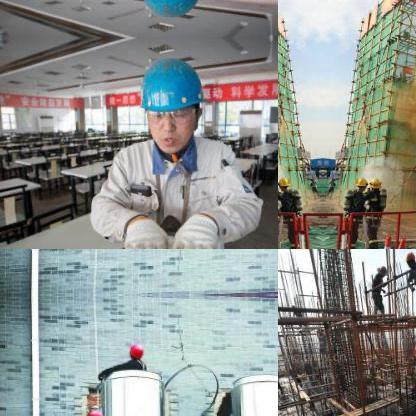Helmet: (136, 48, 208, 154), (135, 0, 209, 25), (124, 340, 146, 360), (352, 173, 366, 193), (278, 173, 291, 194), (366, 175, 382, 191), (402, 251, 414, 267), (85, 407, 105, 415), (409, 336, 415, 361)
